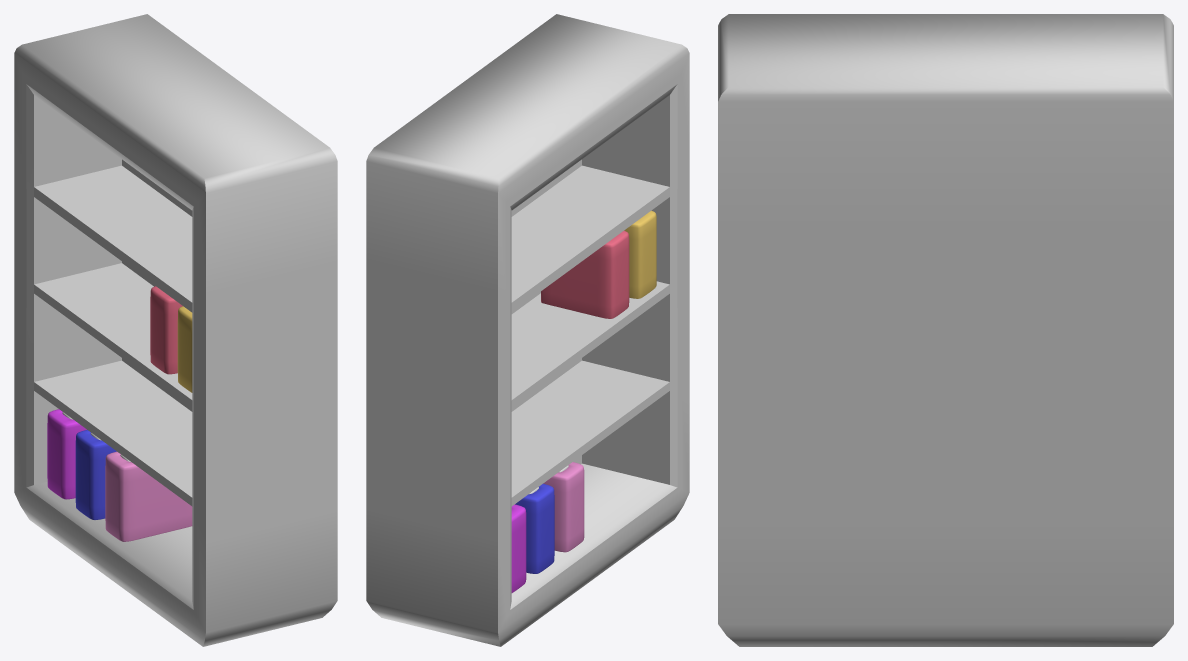
Rendered from kitaplikblend.fbx.
3 renders of one model, left to right at view 1: azimuth 30°, elevation 25°; view 2: azimuth 150°, elevation 25°; view 3: azimuth 270°, elevation 25°, orthographic. The views are drawn at different scales.
Visible parts, largest first — view 1: Cube, Cube.004, Cube.002, Cube.028, Cube.006, Cube.008; view 2: Cube, Cube.006, Cube.004, Cube.002, Cube.008, Cube.028; view 3: Cube.
Part boxes in pixels (box(x1,y1,x2,y2)): Cube: box(14, 14, 337, 646); Cube.004: box(105, 451, 192, 541); Cube.002: box(75, 430, 116, 519); Cube.028: box(47, 409, 86, 499); Cube.006: box(150, 286, 182, 374); Cube.008: box(177, 306, 192, 392); Cube: box(366, 14, 689, 646); Cube.006: box(541, 230, 629, 318); Cube.004: box(543, 462, 584, 552); Cube.002: box(515, 483, 554, 573); Cube.008: box(624, 210, 656, 298); Cube.028: box(511, 504, 526, 592); Cube: box(718, 14, 1173, 646).
Size of the model in its own units: 58.35 by 200 by 147.
